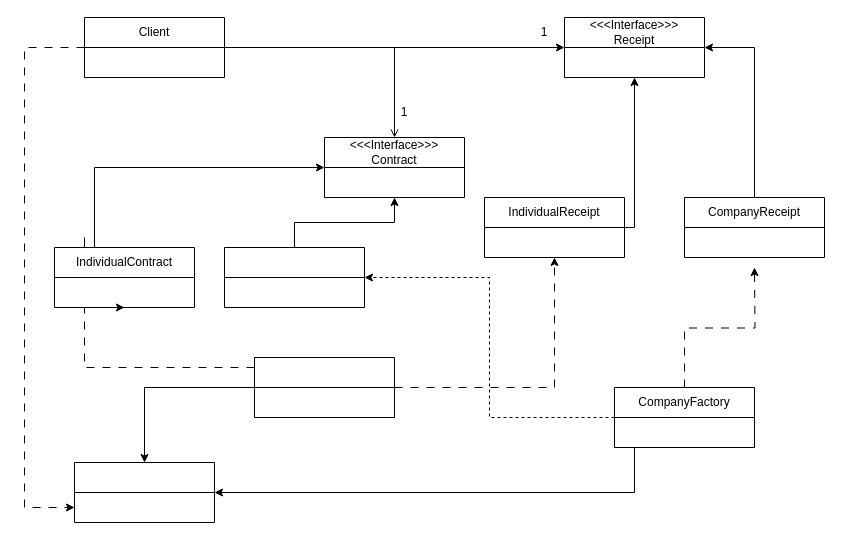
The diagram is 842 pixels wide and 540 high, and some of its shapes have lost their labels. The shapes that lost their labels are listed below. From the top down, each one's centre as x and y in pixels, then its label:
At point (294, 277): "CompanyContract".
At point (324, 387): "IndividualFactory".
At point (144, 492): "<<<Interface>>> AbstractFactory".
